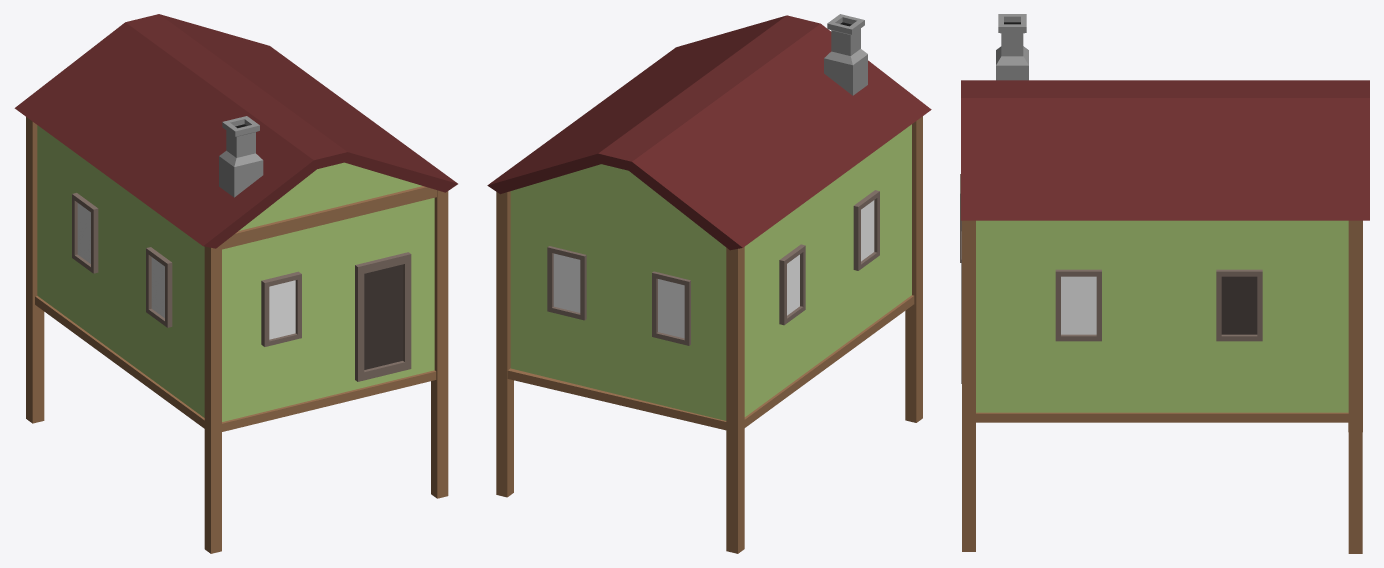
Rendered from M_House_Building_10.fbx.
3 renders of one model, left to right at view 1: azimuth 30°, elevation 25°; view 2: azimuth 150°, elevation 25°; view 3: azimuth 270°, elevation 25°, orthographic. The views are drawn at different scales.
Parts seen in each view (by area): view 1: M_House_Building_10; view 2: M_House_Building_10; view 3: M_House_Building_10.
Boxes of the visible parts, bbox=[...] form: M_House_Building_10: bbox=[14, 14, 457, 553]; M_House_Building_10: bbox=[487, 14, 931, 553]; M_House_Building_10: bbox=[960, 14, 1369, 553].
Bounding box in the file's own units: 446 × 668 × 572.
